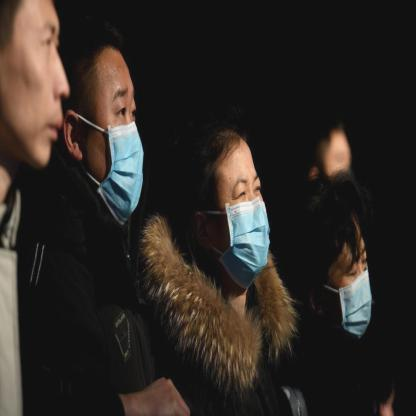with_mask: (67, 39, 153, 233), (181, 122, 273, 298), (301, 202, 377, 348)
without_mask: (2, 5, 72, 186)
